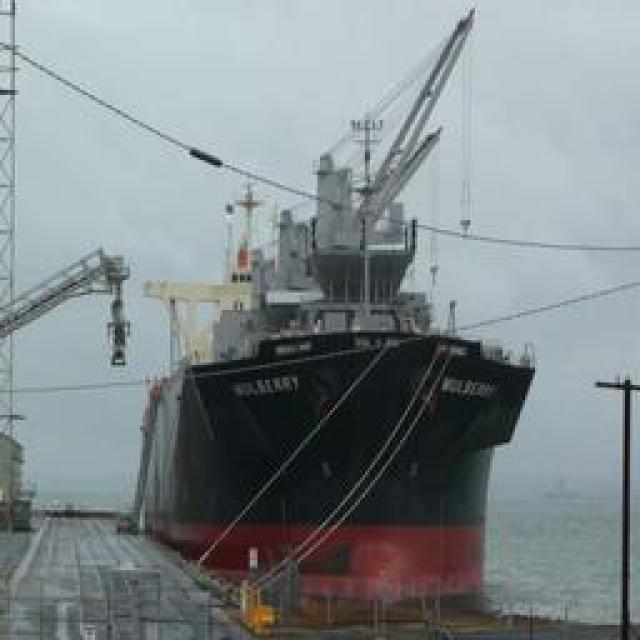Ship: (124, 9, 547, 624)
